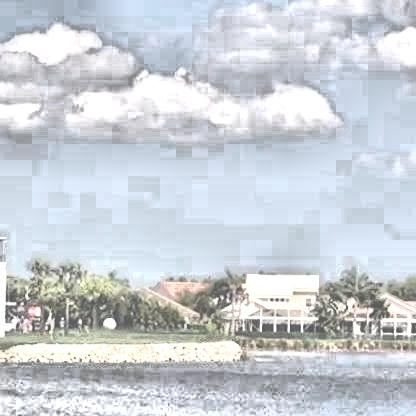golfball: (98, 314, 113, 329)
